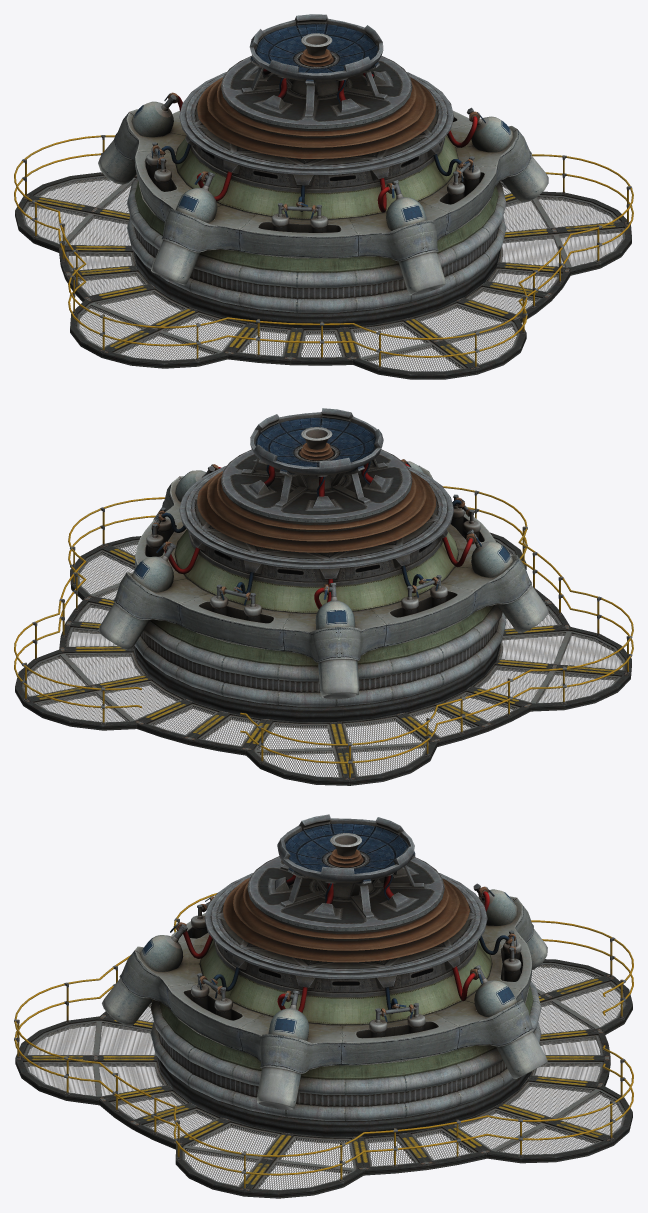
Rendered from particle_rotor_base.glb.
The picture shows the model from 3 angles, top to bottom: view 1: azimuth 30°, elevation 25°; view 2: azimuth 150°, elevation 25°; view 3: azimuth 270°, elevation 25°; orthographic projection. The views are drawn at different scales.
Visible parts, largest first — view 1: ib_particle_rotor_base.smd_0; view 2: ib_particle_rotor_base.smd_0; view 3: ib_particle_rotor_base.smd_0.
Boxes of the visible parts, x1,y1,x2,y2 form: ib_particle_rotor_base.smd_0: (14,14,633,379); ib_particle_rotor_base.smd_0: (14,408,633,785); ib_particle_rotor_base.smd_0: (14,814,633,1198).
Size of the model in its own units: 12 by 4.63 by 11.6.
Materials: 3 (3 with a texture image).
